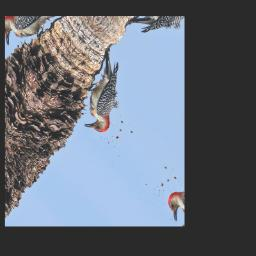Woodpecker: (62, 46, 144, 142)
